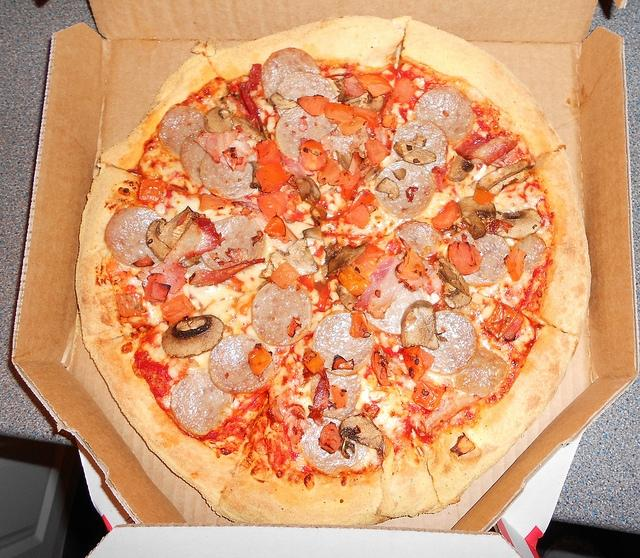mushroom: (146, 206, 202, 267), (162, 314, 224, 358), (402, 300, 446, 350), (338, 415, 384, 459), (476, 160, 530, 195), (270, 237, 318, 275), (458, 196, 496, 239), (494, 210, 541, 240), (436, 256, 469, 296), (204, 106, 235, 133), (444, 280, 472, 308), (448, 155, 476, 182), (375, 176, 399, 199)
tomato: (150, 214, 226, 293), (395, 237, 435, 295), (484, 303, 520, 340), (345, 188, 377, 228), (448, 240, 483, 276), (160, 294, 197, 327), (402, 346, 434, 382), (256, 162, 294, 192), (338, 265, 372, 297), (257, 190, 288, 222), (413, 380, 446, 410), (356, 74, 394, 98), (269, 261, 301, 289), (300, 138, 328, 170), (389, 77, 419, 106), (364, 137, 392, 167), (256, 139, 284, 168), (431, 200, 459, 229), (248, 345, 273, 376), (504, 248, 527, 281), (318, 421, 341, 454), (244, 70, 259, 118), (297, 94, 329, 116), (349, 310, 372, 339), (324, 102, 354, 124), (318, 158, 342, 184), (303, 348, 326, 375), (372, 352, 390, 386), (139, 178, 164, 202), (352, 106, 379, 128), (353, 251, 378, 273), (264, 216, 285, 236), (328, 170, 354, 186), (472, 189, 496, 206)
